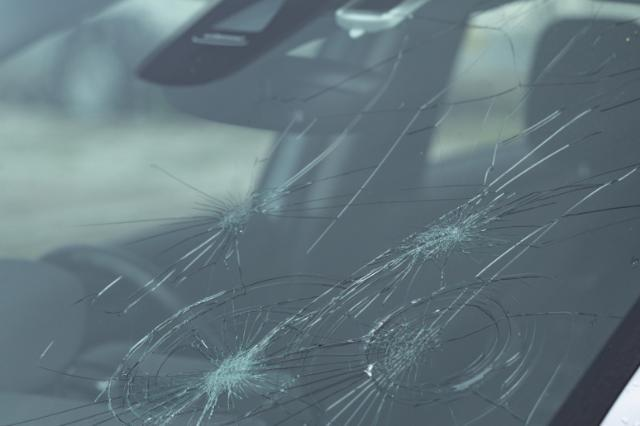Windshield: (0, 4, 640, 426)
